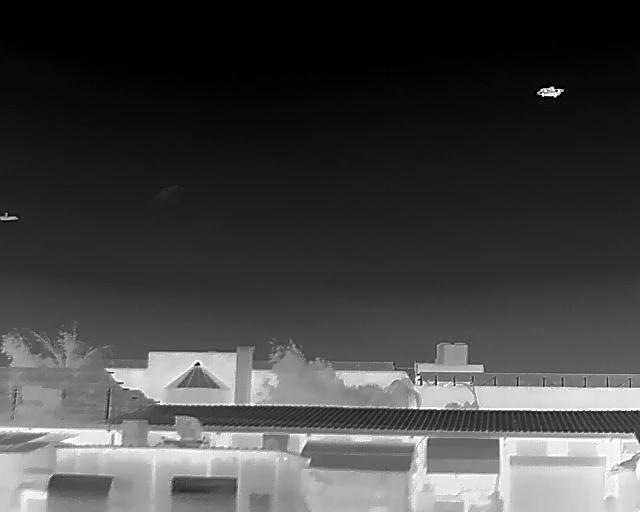fpv-drone: (537, 86, 563, 98)
